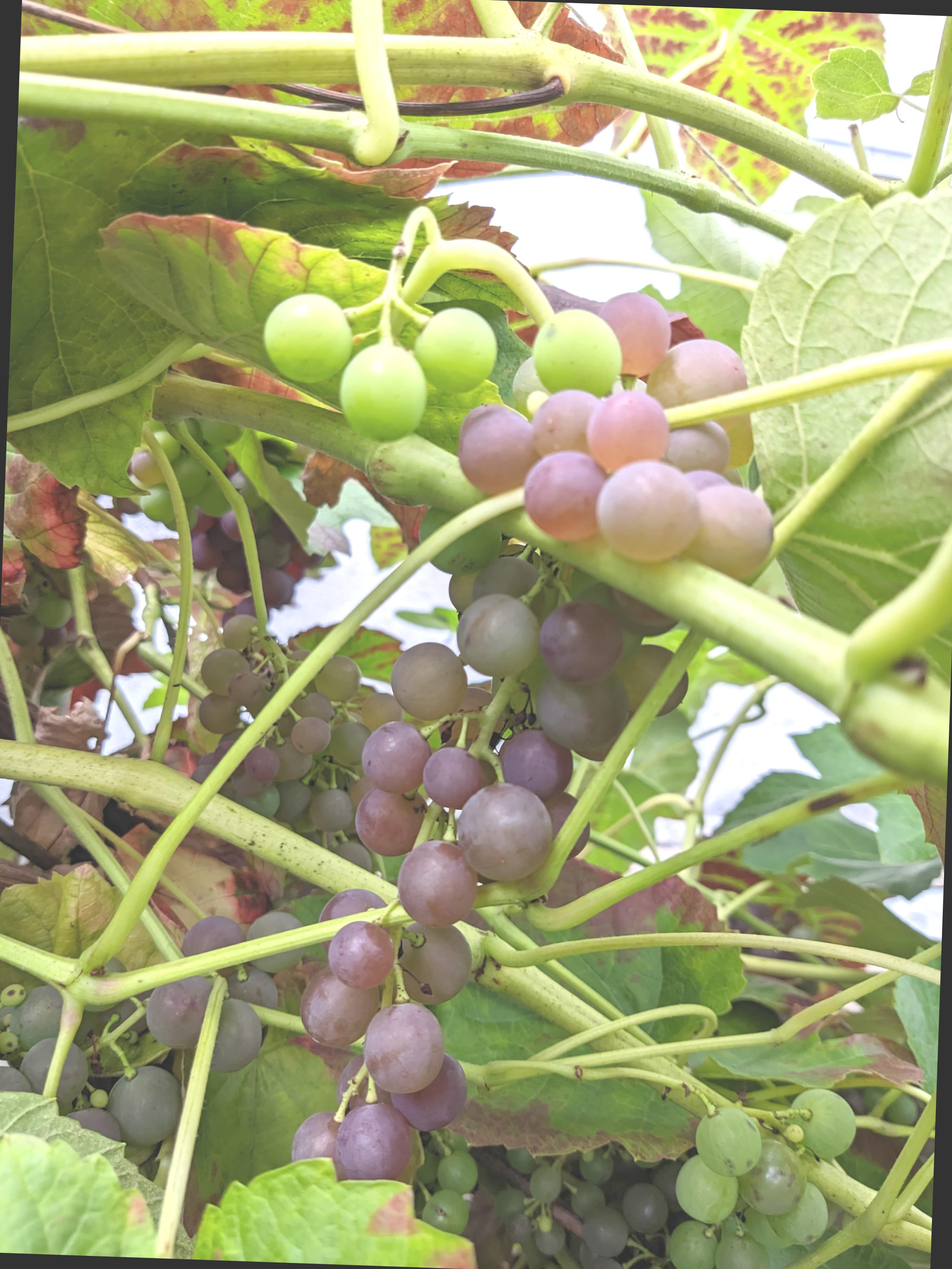Grape Unripe: (312, 298, 808, 1186), (277, 272, 643, 561), (2, 879, 324, 1157), (215, 599, 423, 858), (684, 1061, 880, 1267), (444, 1118, 702, 1261), (151, 395, 327, 591), (20, 550, 95, 635)
